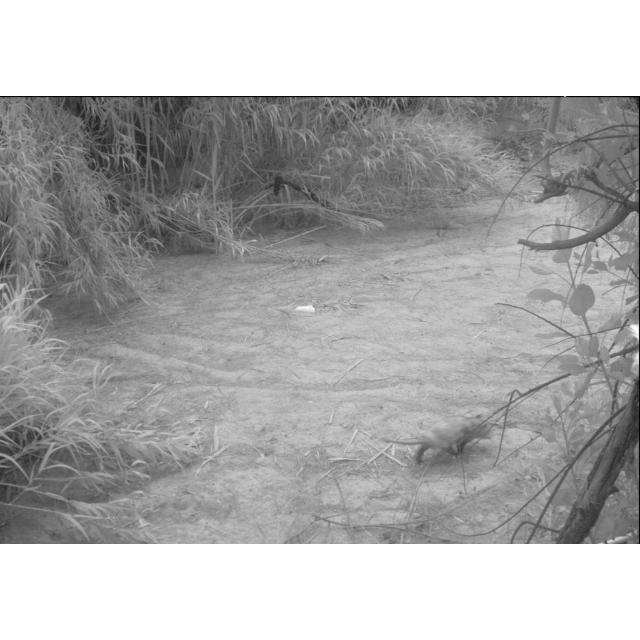animals: (377, 412, 497, 462)
